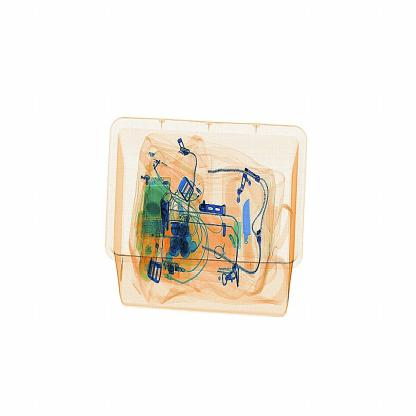wrench: (239, 196, 259, 270)
